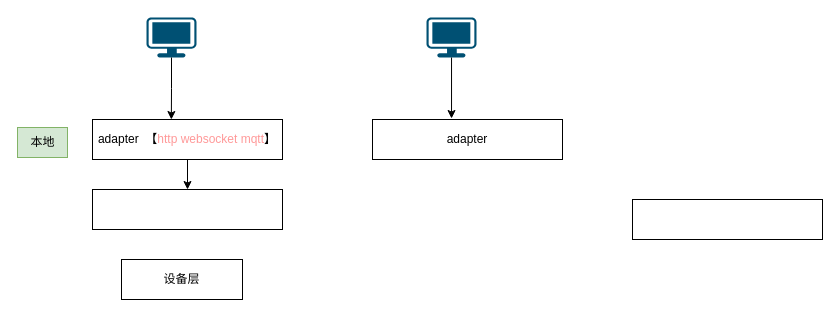
Some shapes in this 840 by 317 pixel diagram are drawn without their labels. The shapes that lost their labels are listed below. From the top down, each one's centre as x and y in pixels, then its label:
(x=187, y=209): 应用层 app
(x=727, y=219): 资源管层 根据站点 从服务端获取配置和下载更新jar包
